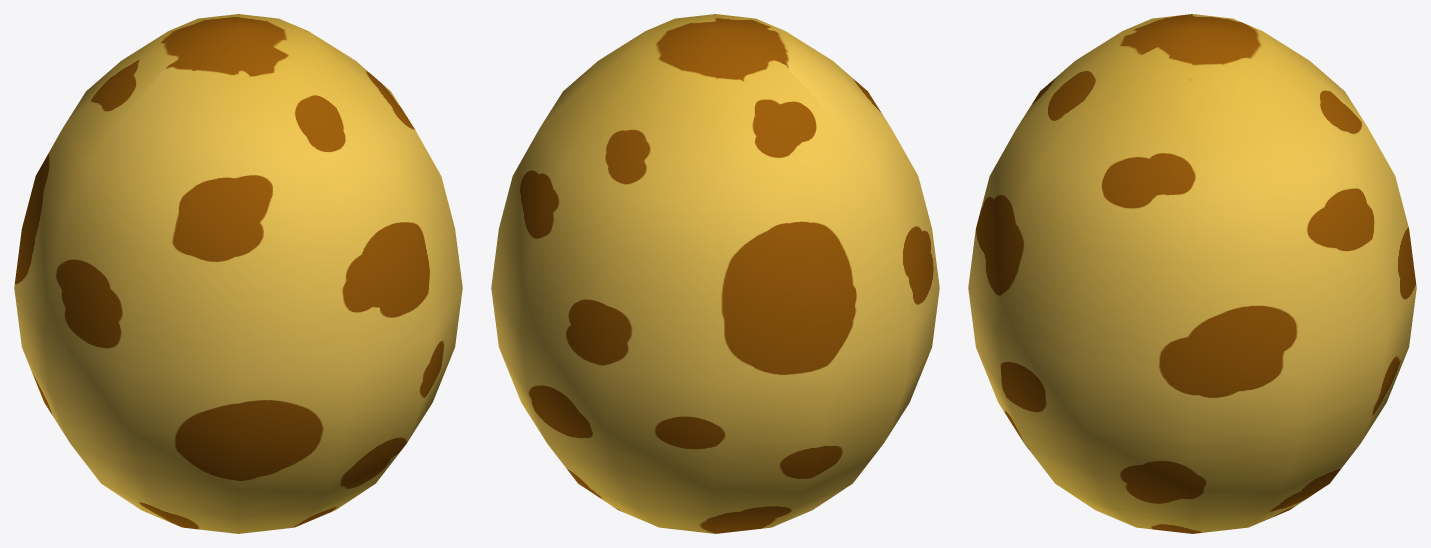
Rendered from dino_egg.fbx.
The picture shows the model from 3 angles, left to right: view 1: azimuth 30°, elevation 25°; view 2: azimuth 150°, elevation 25°; view 3: azimuth 270°, elevation 25°; orthographic projection.
Parts seen in each view (by area): view 1: Sphere; view 2: Sphere; view 3: Sphere.
Part boxes in pixels (x1=…): Sphere: x1=14, y1=14, x2=462, y2=533; Sphere: x1=491, y1=14, x2=939, y2=533; Sphere: x1=968, y1=14, x2=1416, y2=533.
Size of the model in its own units: 200 by 240 by 200.
